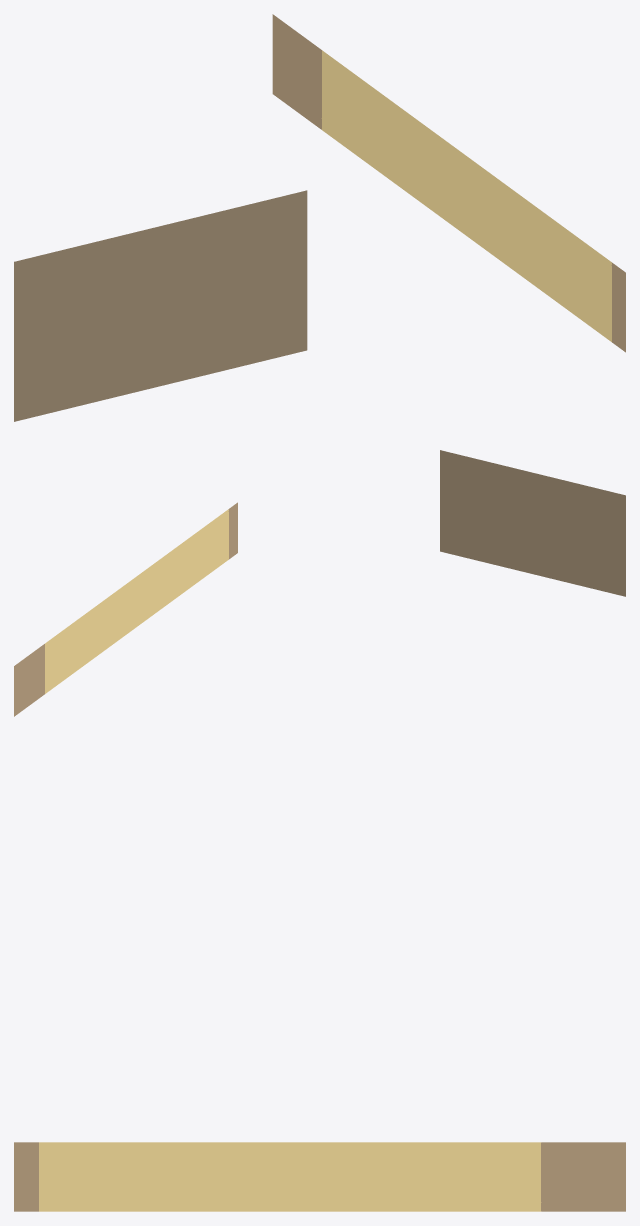
3 renders of one model, top to bottom at view 1: azimuth 30°, elevation 25°; view 2: azimuth 150°, elevation 25°; view 3: azimuth 270°, elevation 25°, orthographic. The views are drawn at different scales.
Bounding box in the file's own units: 1 × 0.375 × 1.
2 materials, 2 textured.
